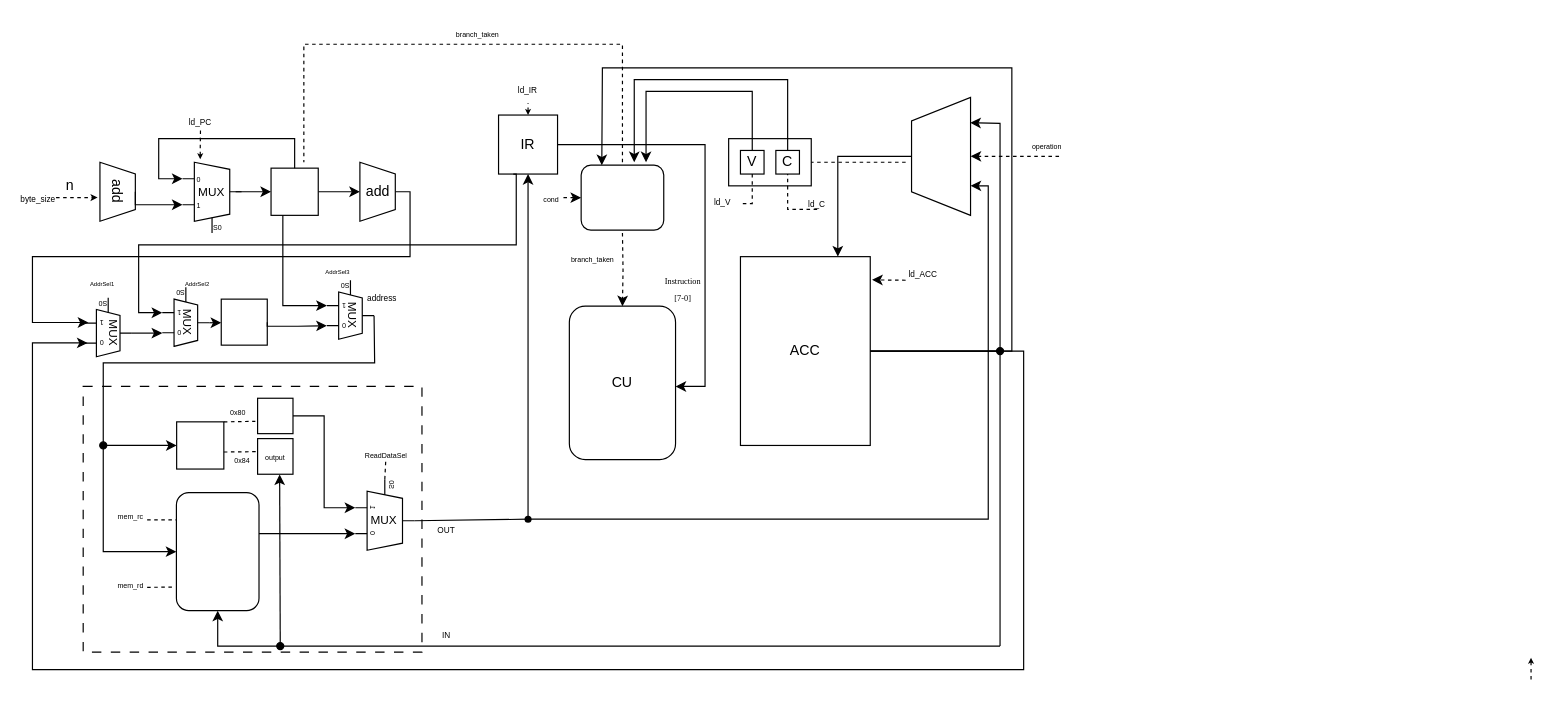
Some shapes in this 1556 by 707 pixel diagram are drawn without their labels. Here are the shapes that lost their labels. From the top down, the centre of each, then its label:
the point at 940,155: ALU
the point at 294,191: PC
the point at 622,197: BCU
the point at 243,321: AR
the point at 274,415: input
the point at 199,445: MMIO
the point at 217,551: MEM
